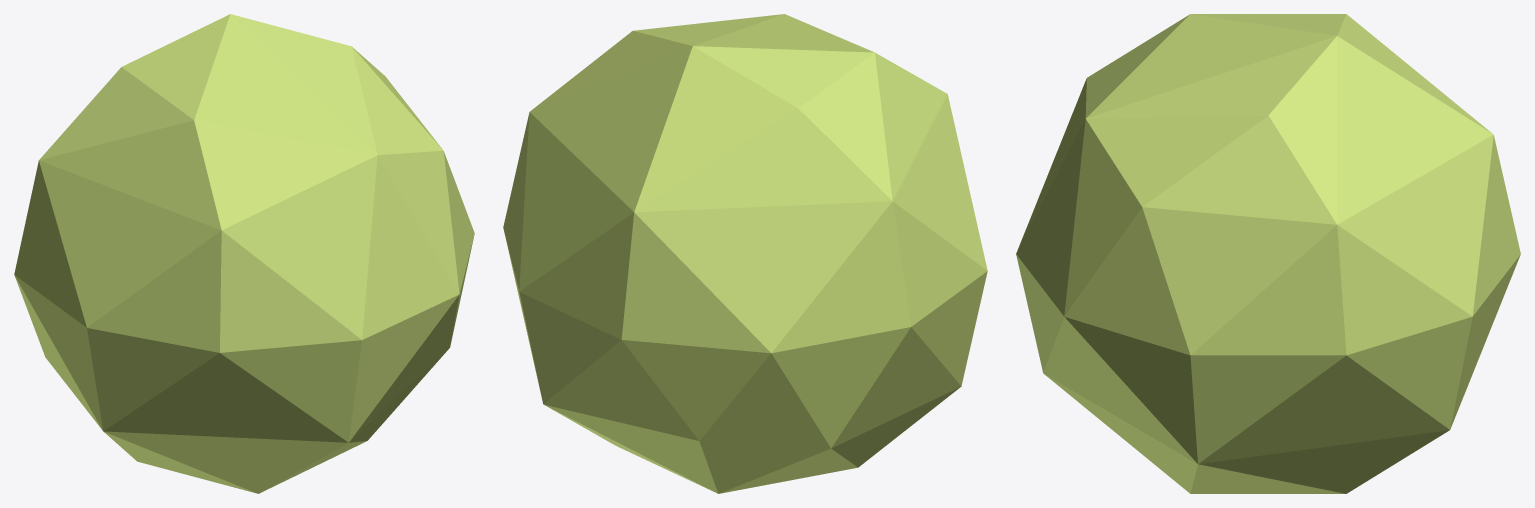
Rendered from Bush_g_m_01.fbx.
3 views of the same model, side by side, from view 1: azimuth 30°, elevation 25°; view 2: azimuth 150°, elevation 25°; view 3: azimuth 270°, elevation 25° (orthographic). The views are drawn at different scales.
Visible parts, largest first — view 1: Bush_g_m_01; view 2: Bush_g_m_01; view 3: Bush_g_m_01.
Boxes of the visible parts, box(x1,y1,x2,y2) form: Bush_g_m_01: box(14, 14, 474, 493); Bush_g_m_01: box(503, 14, 987, 493); Bush_g_m_01: box(1016, 14, 1520, 493).
Size of the model in its own units: 107 by 111 by 112.
